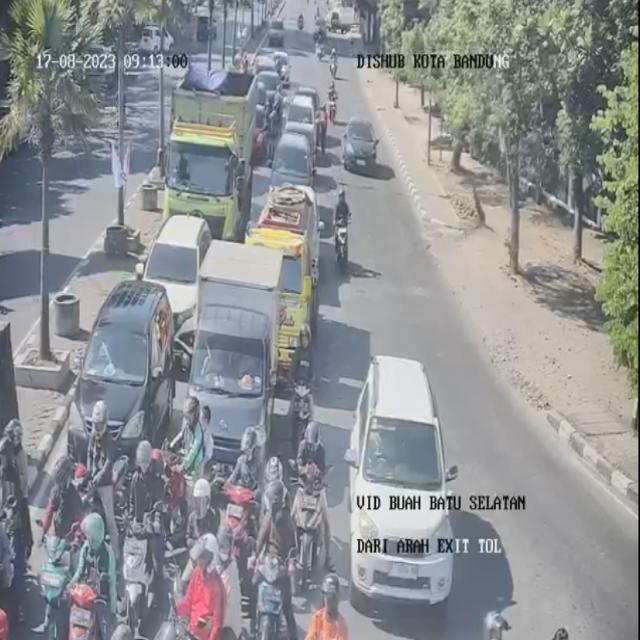bunch of motorcycle: (0, 439, 339, 640)
cars: (345, 353, 461, 601), (181, 239, 282, 486), (67, 279, 174, 461), (244, 184, 323, 369), (134, 214, 211, 380), (270, 121, 316, 194), (342, 116, 379, 171)
motorcycle: (334, 190, 351, 272)
truck: (163, 68, 255, 239)
